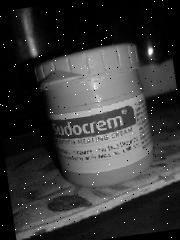plastic: (31, 40, 158, 194)
